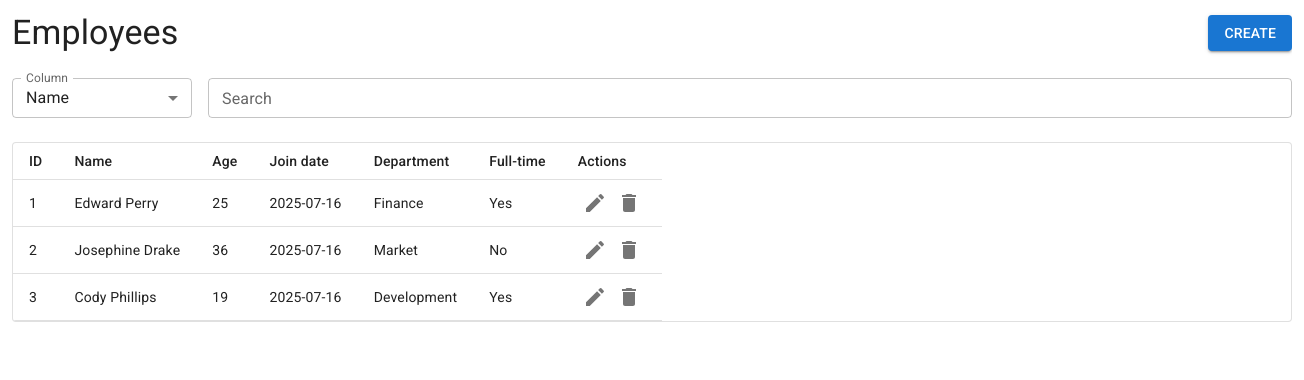
Test: EmployeeListPage › Age を選ぶと 25 は年齢だけに当たる
The image size is (1304, 380).
Check: the cell "Edward Perry" is shown, box left=58, top=180, right=196, bottom=226
Click the dropdown named "Column" at (48, 98), box left=26, top=88, right=69, bottom=108
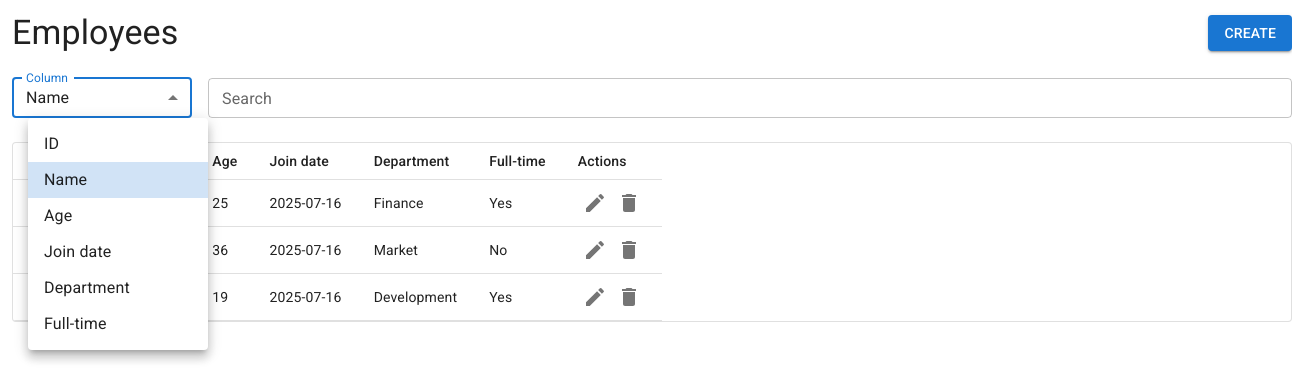
Click the option "Age" at (58, 216), box left=44, top=206, right=72, bottom=225
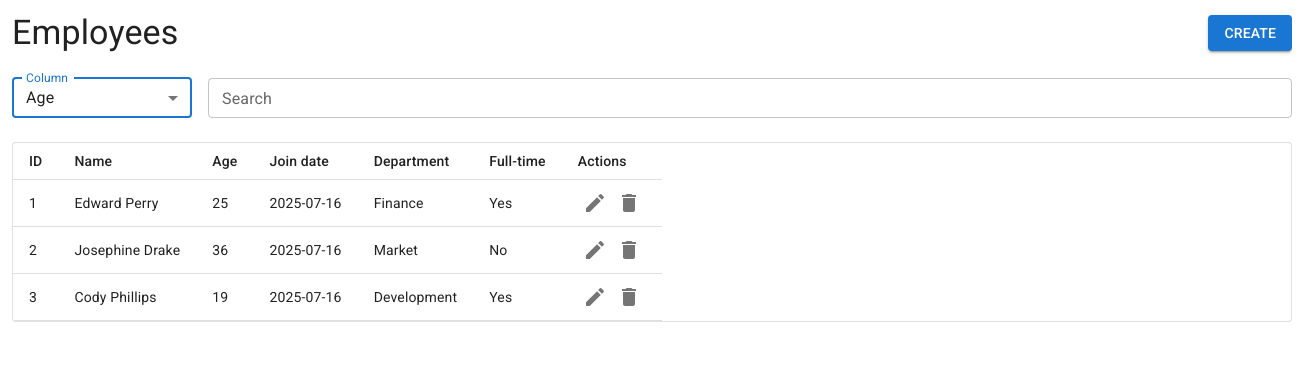
Type "25" into the field labelled "Search" at (750, 98), box left=208, top=78, right=1292, bottom=118
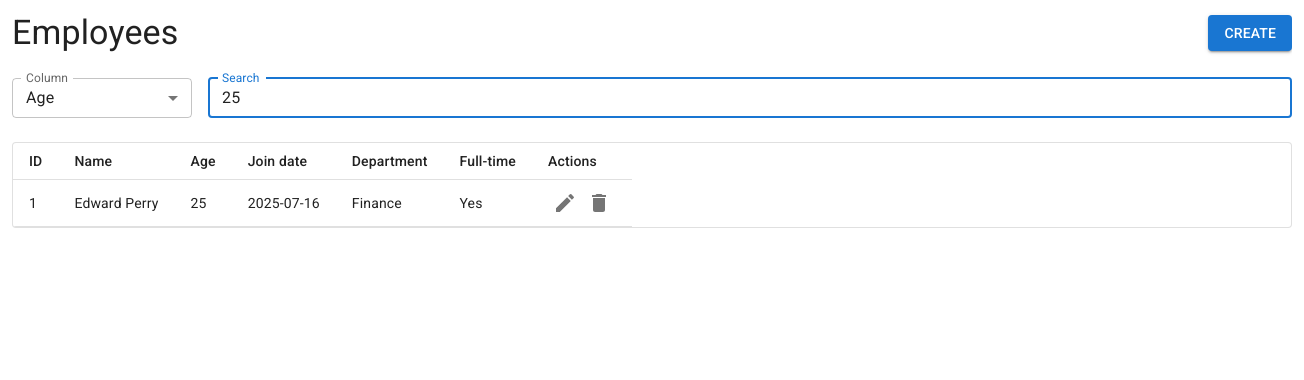
Check: the cell "Edward Perry" is shown, box left=58, top=180, right=174, bottom=226
Check: the cell "Josephine Drake" is gone
Check: the cell "Cody Phillips" is gone
